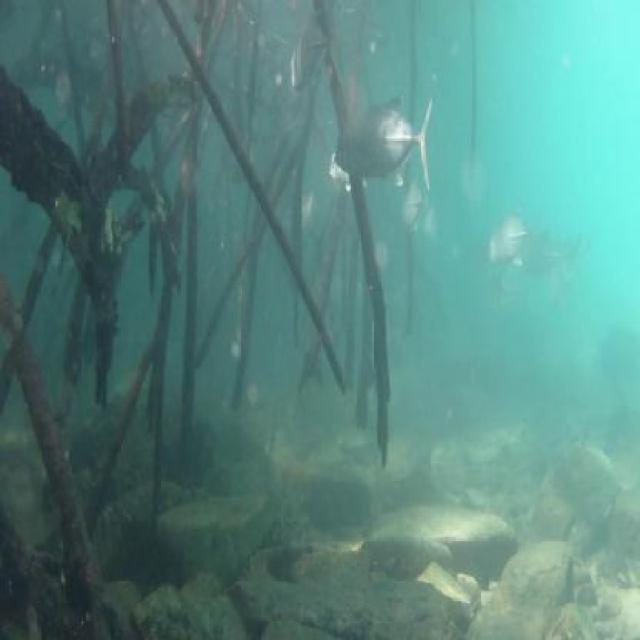Caranx_sexfasciatus_juvenile: (332, 93, 437, 199), (517, 227, 594, 298), (288, 11, 332, 115), (398, 194, 444, 255), (481, 209, 527, 269)
